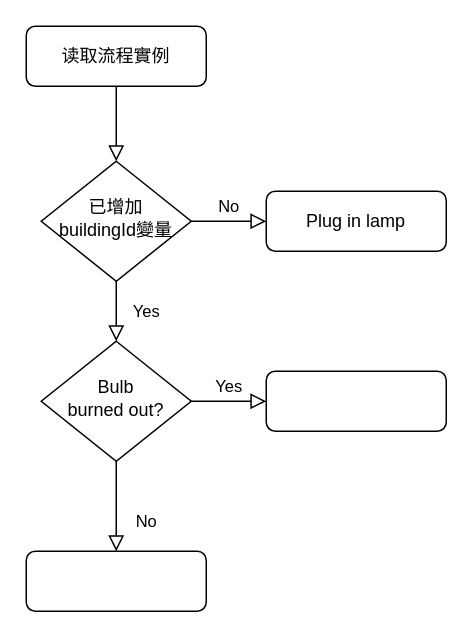
Image size: 473x638. Some labels were removed from this diagram. The shapes that lost their labels are listed below. From the top down, each one's centre as x and y in pixels, then its label:
pixel 355 400: Replace Bulb
pixel 115 580: Repair Lamp
